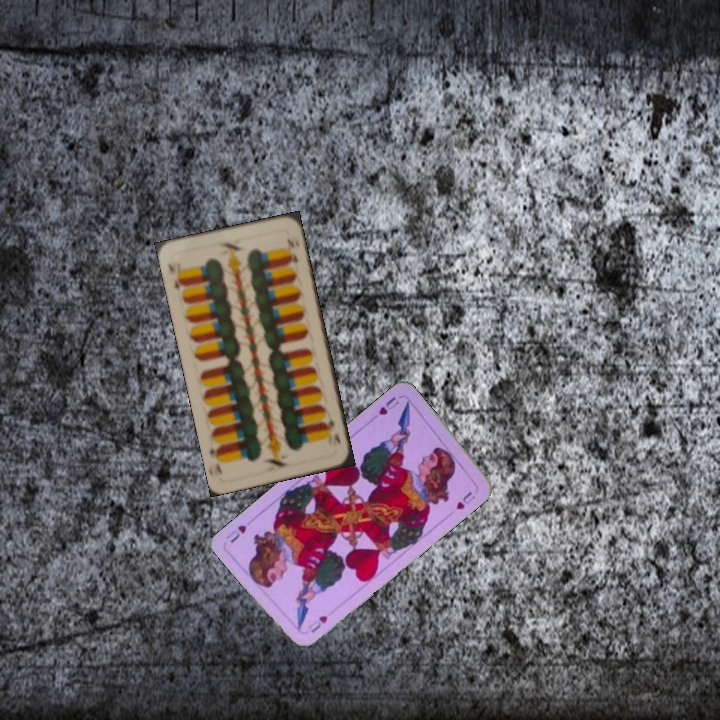E10: (164, 259, 187, 292), (321, 414, 343, 446)
HU: (375, 392, 402, 418), (301, 611, 330, 635)
